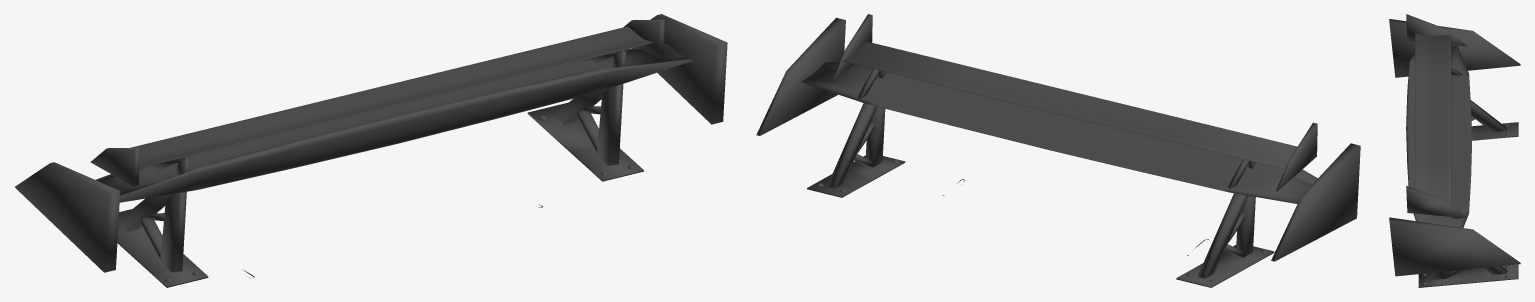
The model's file is spoiler3.glb.
The picture shows the model from 3 angles, left to right: view 1: azimuth 30°, elevation 25°; view 2: azimuth 150°, elevation 25°; view 3: azimuth 270°, elevation 25°; orthographic projection. The views are drawn at different scales.
Visible parts, largest first — view 1: Spoiler; view 2: Spoiler; view 3: Spoiler.
Part boxes in pixels (x1,y1,x2,y2): Spoiler: (15,14,727,287); Spoiler: (756,14,1360,287); Spoiler: (1389,14,1520,287).
Size of the model in its own units: 1.58 by 0.4037 by 0.4327.
Materials: 1 (1 with a texture image).
